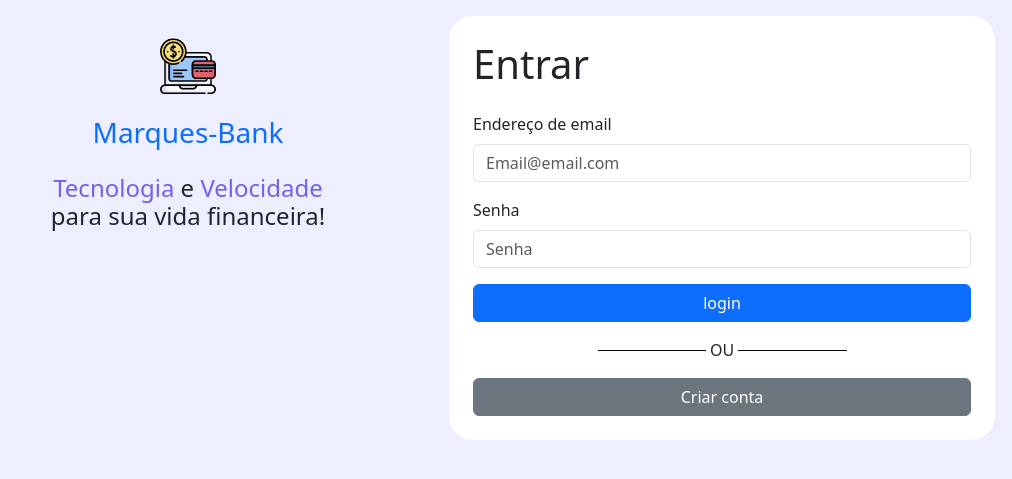
Login screen › Should be able to see the "registro" in the screen
Click the button "Criar conta" at point(722, 397), box [473,378,971,416]
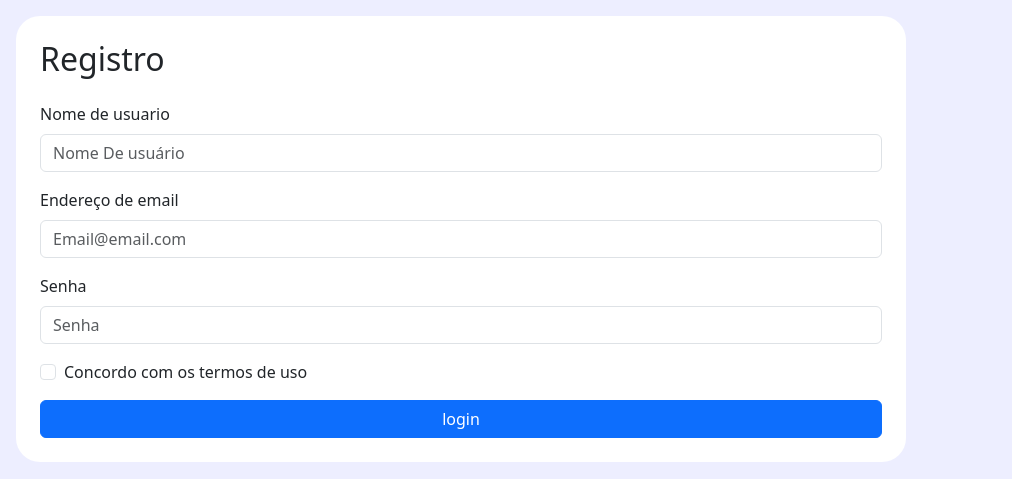
Expected: the heading "Registro" is shown, [40,37,165,80]
